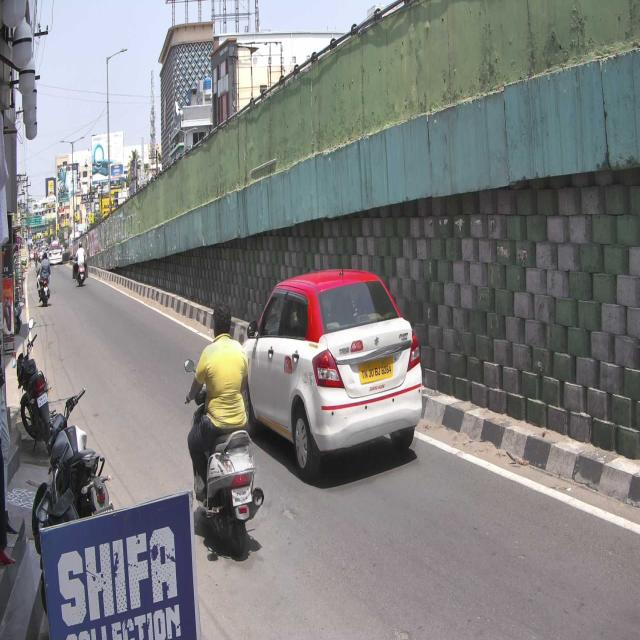single_rider: (183, 298, 263, 556)
